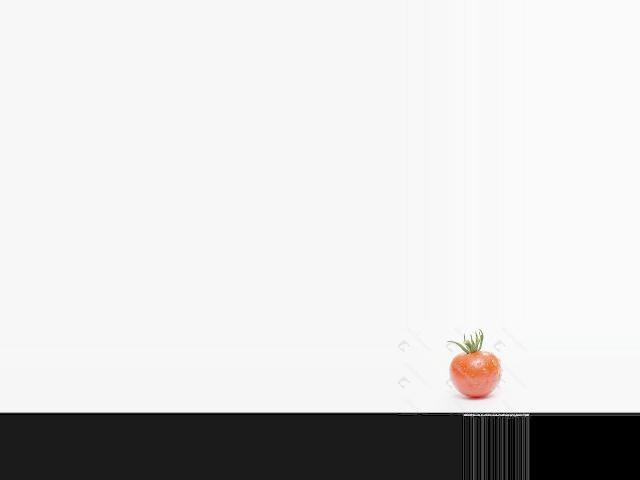tomato: (448, 352, 500, 397)
